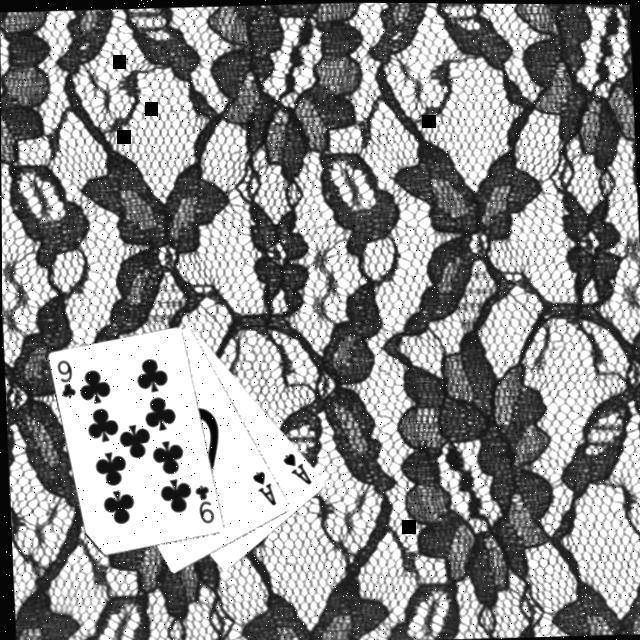9C: (190, 482, 217, 528), (52, 357, 78, 402)
AS: (278, 449, 312, 488), (248, 466, 278, 508)
